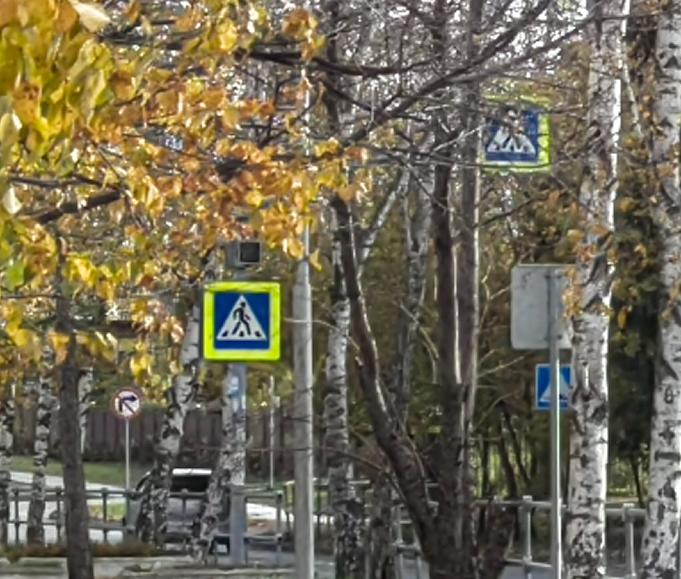obstructed_road_sign: (477, 94, 550, 170), (535, 364, 571, 410)
road_sign: (203, 283, 279, 360), (114, 389, 140, 419)
